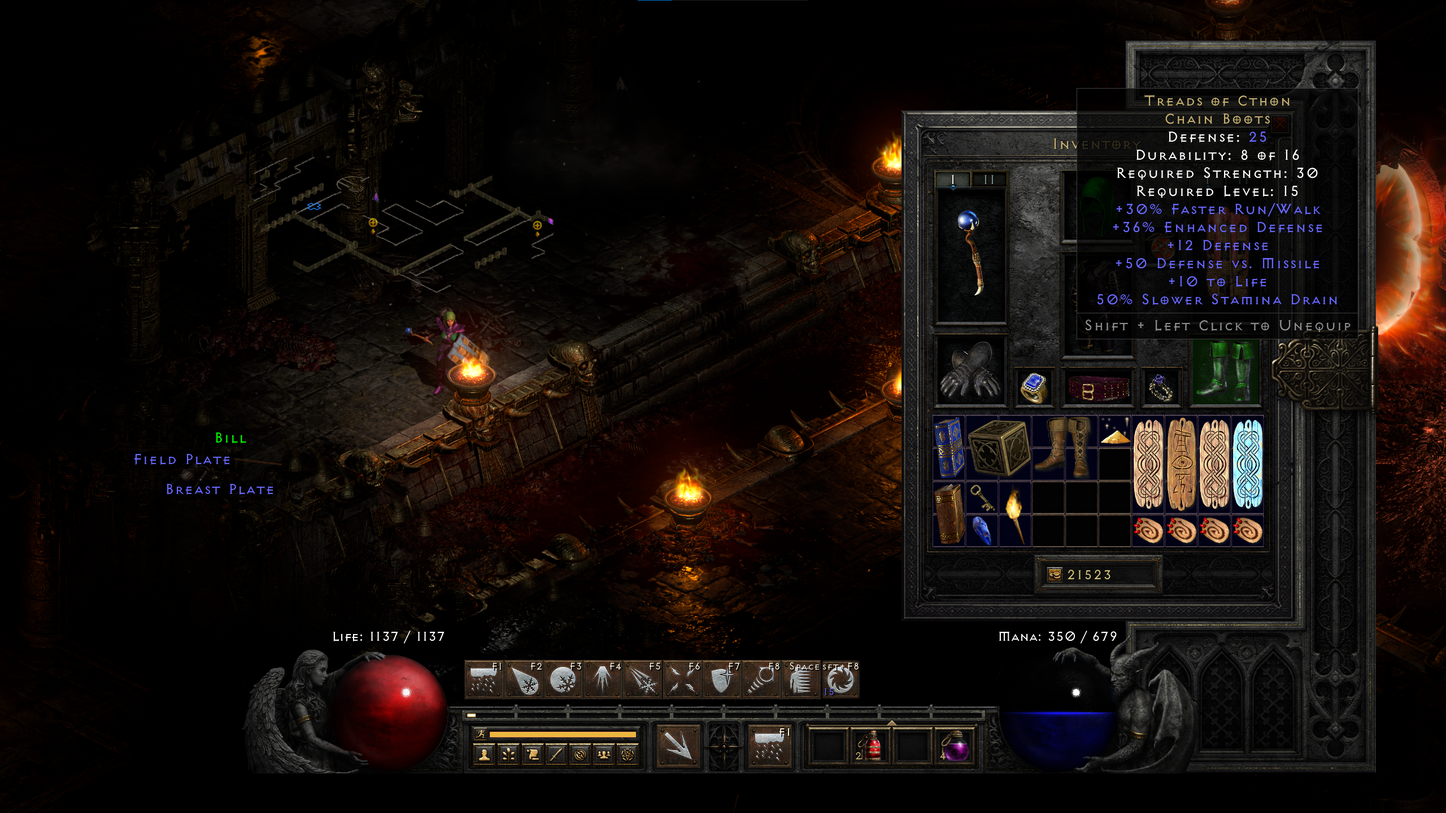tooltip: (1077, 88, 1358, 339)
